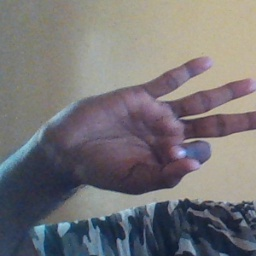K: (47, 55, 256, 197)
